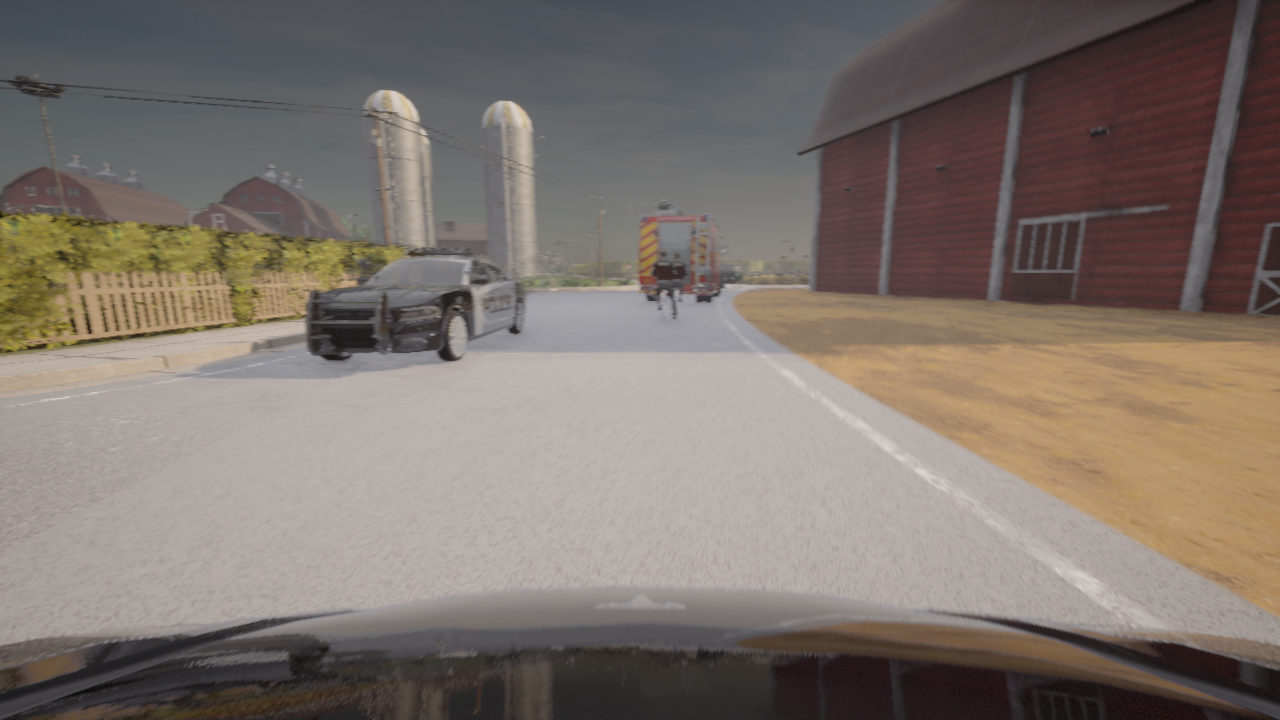cyclist: (0, 588, 1279, 719), (305, 247, 526, 361), (638, 202, 726, 302), (720, 263, 744, 288), (657, 290, 666, 323), (675, 288, 678, 316)
pedestrian: (547, 272, 554, 288), (504, 264, 507, 272)
